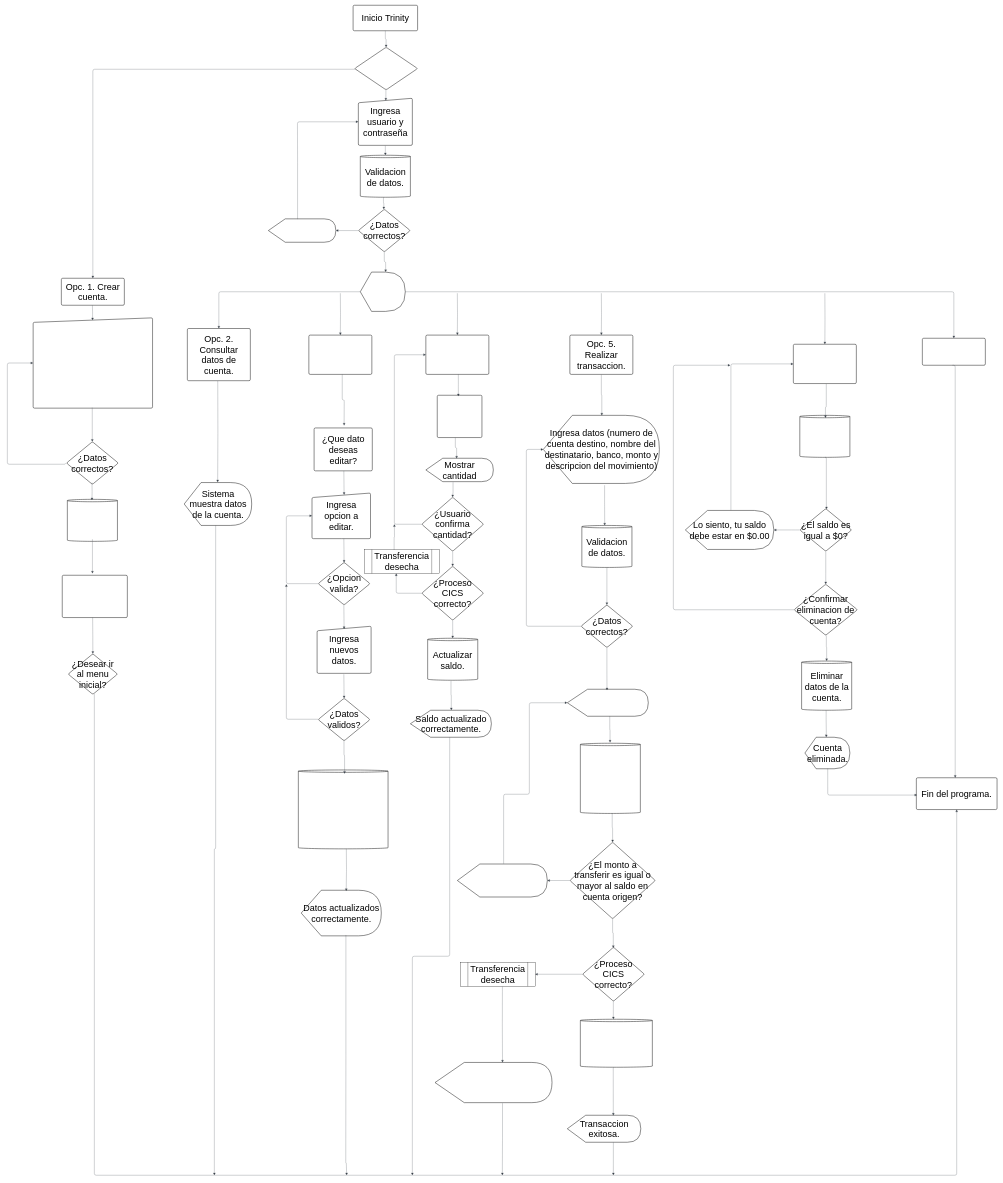
This 1003x1183 diagram has some shape labels left out. The shapes that lost their labels are listed below. From the top down, each one's centre as x and y in pixels, then its label:
(386,68): ¿El usuario tiene cuenta?
(302,230): Error, intentalo nuevamente.
(382,291): Selecciona una opcion.
(93,362): Solicitud de datos (Datos personales).
(340,354): Opc. 3. Editar datos de cuenta.
(457,354): Opc. 4. Ingresar dinero.
(824,364): Opc. 6. Eliminar cuenta.
(953,351): Opc. 7. Salir
(459,416): ¿Cuanto deseas agregar?
(824,436): Validacion de saldo.
(92,520): Almacenar datos.
(94,596): Cuenta creada correctamente.
(607,702): Ingresa el saldo a transferir.
(610,778): Validacion de saldo cuenta origen.
(343,809): Actualizar datos en base de datos y tabla correspondiente.
(502,880): Lo siento, tu saldo es menor, ingresa otra cantidad.
(616,1043): Actualizar saldo en ambas cuentas.
(493,1082): Hubo un error en la transaccion, intentalo de nuevo mas tarde.
